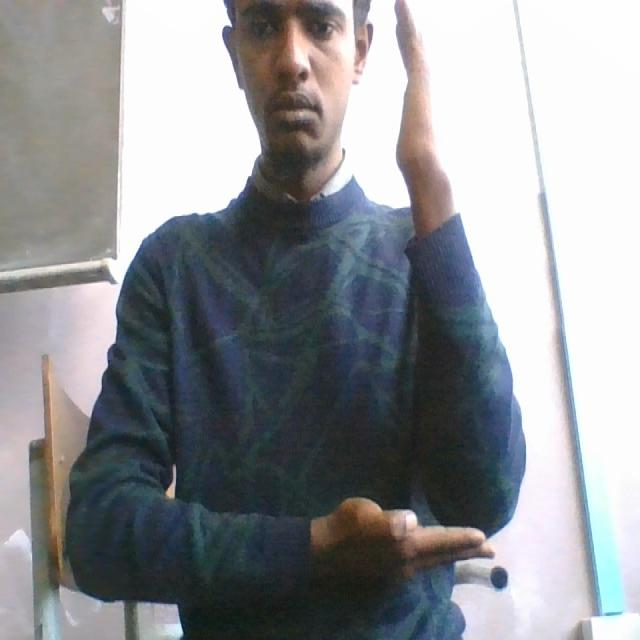egziabher: (333, 0, 516, 604)
